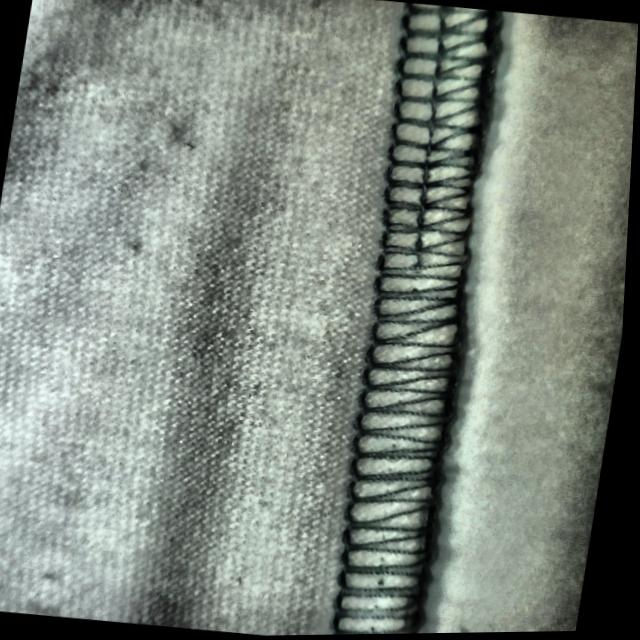Stitch: (344, 16, 519, 454)
